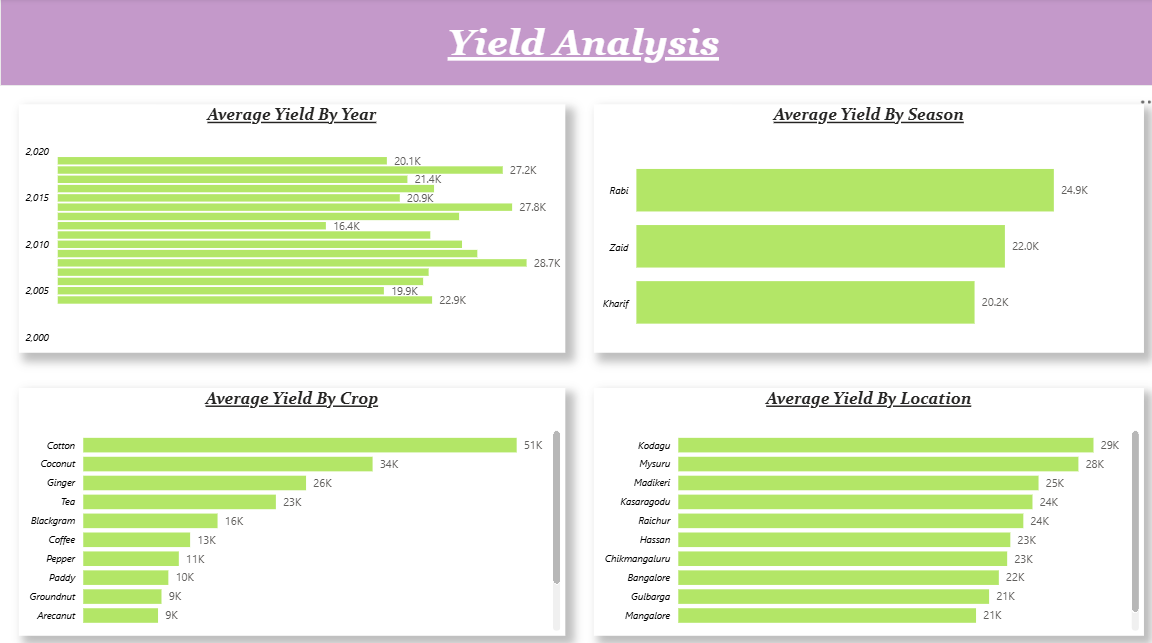

The dashboard page shown, as its layout file describes it:
{"tool":"powerbi","page":{"name":"Yield Analysis","canvas":[1280,720],"ordinal":3},"visuals":[{"type":"shape","box":[0,0,1280.3,96.1],"z":0},{"type":"barChart","title":"Average Yield By Year","fields":{"Category":["AGRICULTURE.YEAR"],"Y":["Avg(AGRICULTURE.YIELDS)"]},"box":[20.6,116.6,599.7,273.1],"z":1000},{"type":"barChart","title":"Average Yield By Season","fields":{"Category":["AGRICULTURE.SEASON"],"Y":["Avg(AGRICULTURE.YIELDS)"]},"box":[651.8,116.6,603.8,273.1],"z":2000},{"type":"barChart","title":"Average Yield By Crop ","fields":{"Category":["AGRICULTURE.CROPS"],"Y":["Avg(AGRICULTURE.YIELDS)"]},"box":[20.6,428.1,599.7,271.7],"z":3000},{"type":"barChart","title":"Average Yield By Location ","fields":{"Category":["AGRICULTURE.LOCATION"],"Y":["Avg(AGRICULTURE.YIELDS)"]},"box":[651.8,428.1,603.8,271.7],"z":4000}]}

Visuals, with their boxes in screenshot pixels (x1, y1, x2, y2), scaled from the page's 1280x720 canvas onto the 1152x643 screenshot:
shape: (0,0,1151,86)
"Average Yield By Year" barChart: (19,104,558,348)
"Average Yield By Season" barChart: (587,104,1130,348)
"Average Yield By Crop " barChart: (19,382,558,625)
"Average Yield By Location " barChart: (587,382,1130,625)
